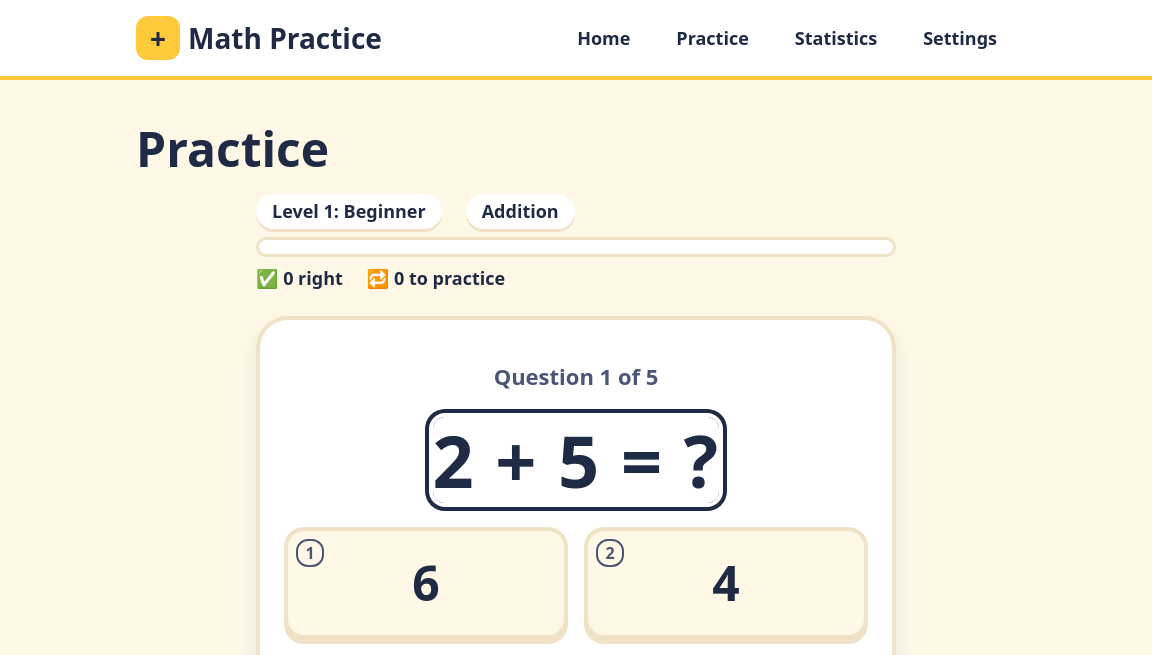
PracticePage › updates the totals and progress after every answer
Click the button "1 6". click: coordinates (426, 583)
box: x1=284 y1=527 x2=568 y2=639
(page scrolled)
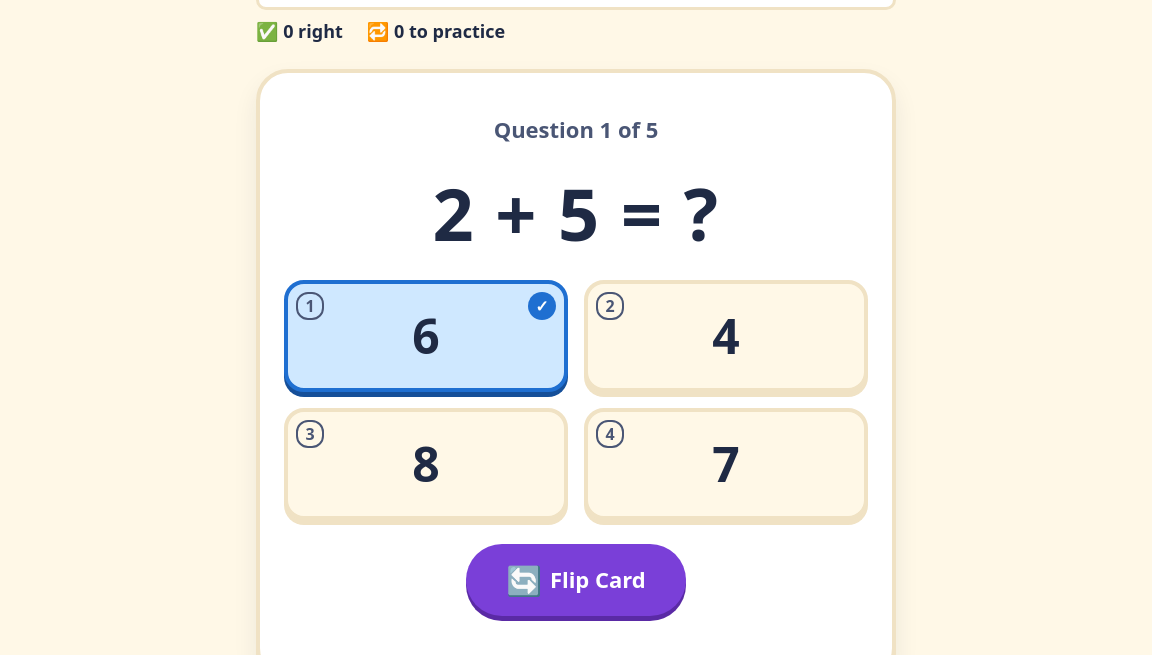
Click the button "🔄 Flip Card". click: coordinates (576, 580)
box: x1=466 y1=544 x2=686 y2=616
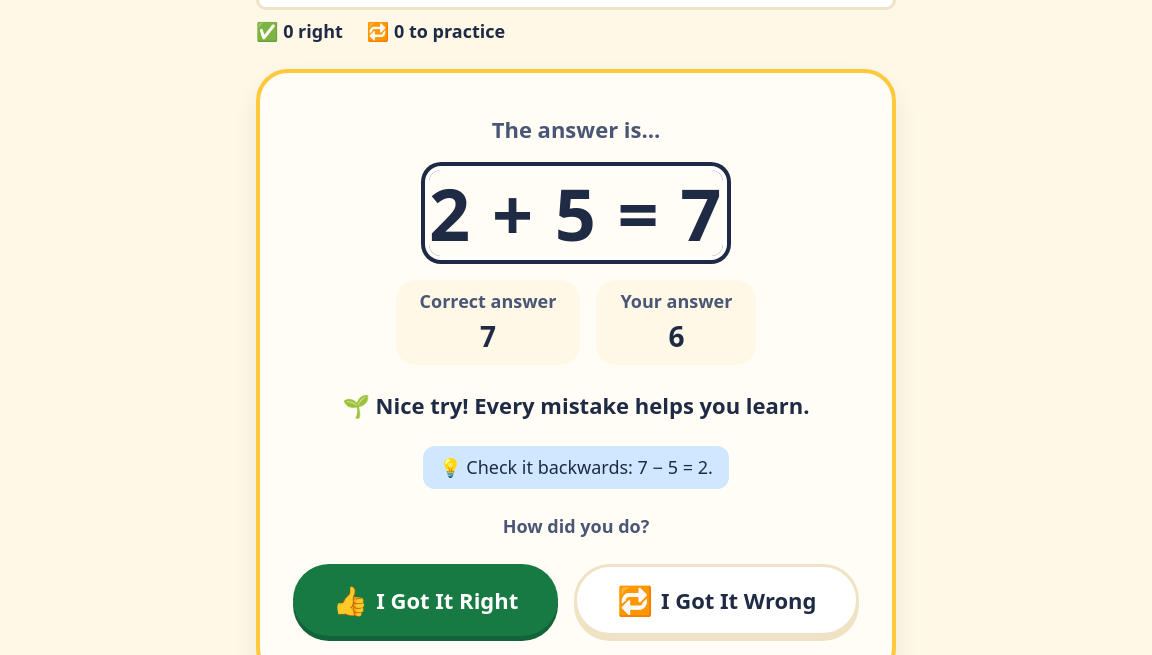
Click the button "👍 I Got It Right". click: coordinates (425, 600)
box: x1=292 y1=564 x2=558 y2=636
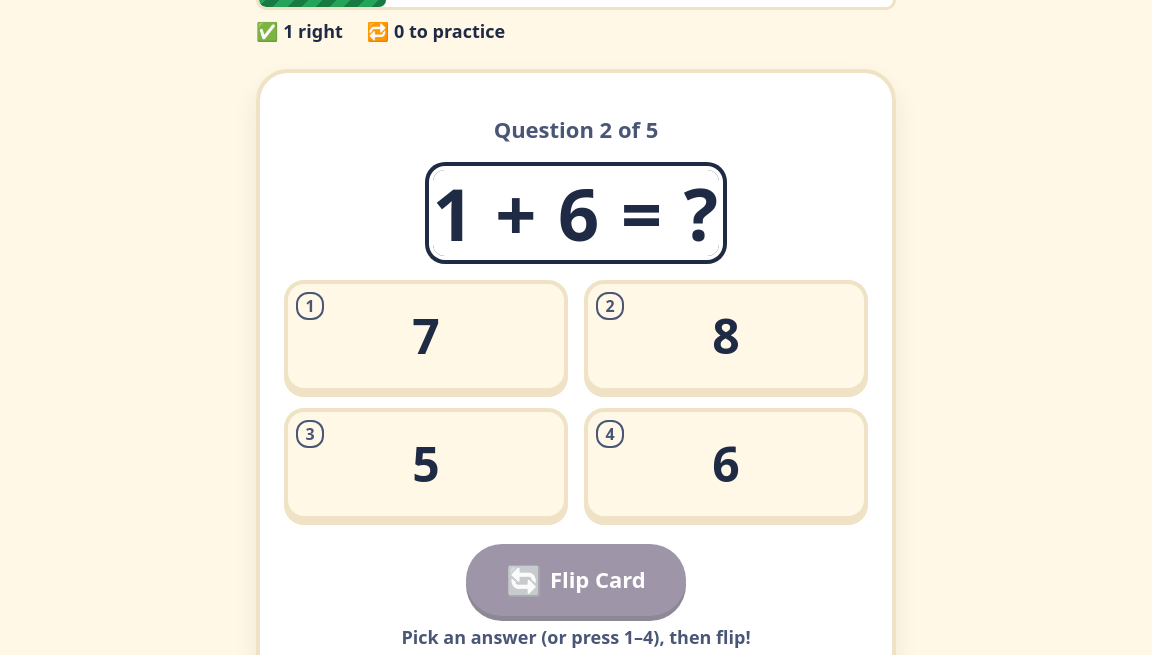
Result: the text "Question 2 of 5" is shown at x1=494 y1=113 x2=658 y2=146
Click the button "1 7". click: coordinates (426, 336)
box: x1=284 y1=280 x2=568 y2=392
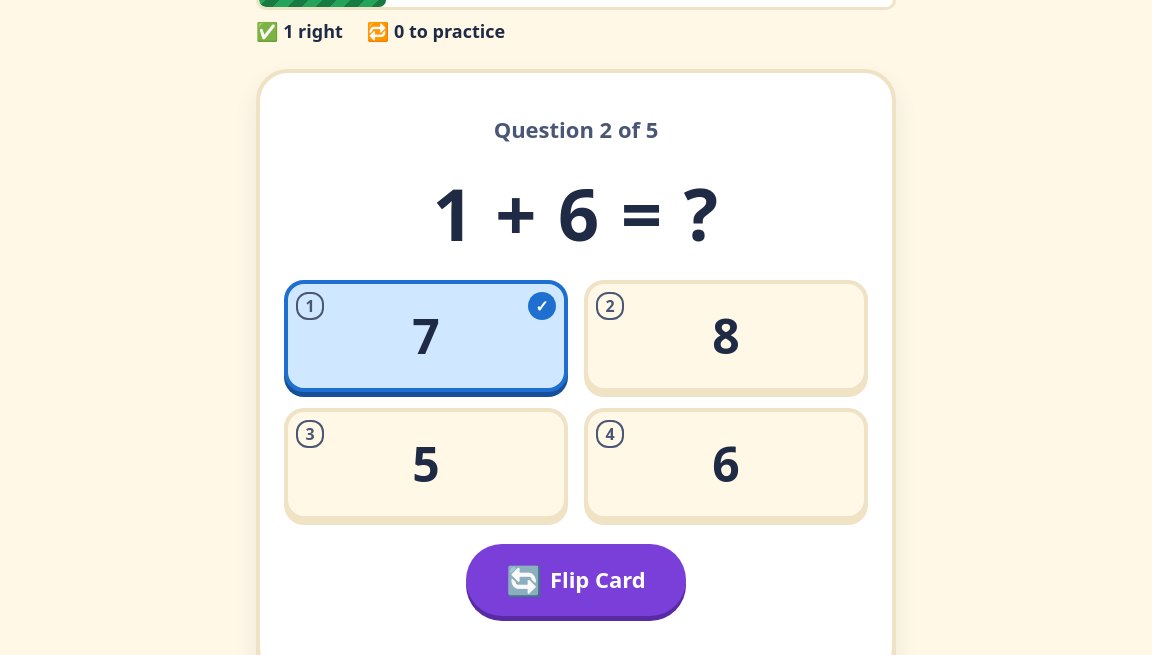
Click the button "🔄 Flip Card". click: coordinates (576, 580)
box: x1=466 y1=544 x2=686 y2=616
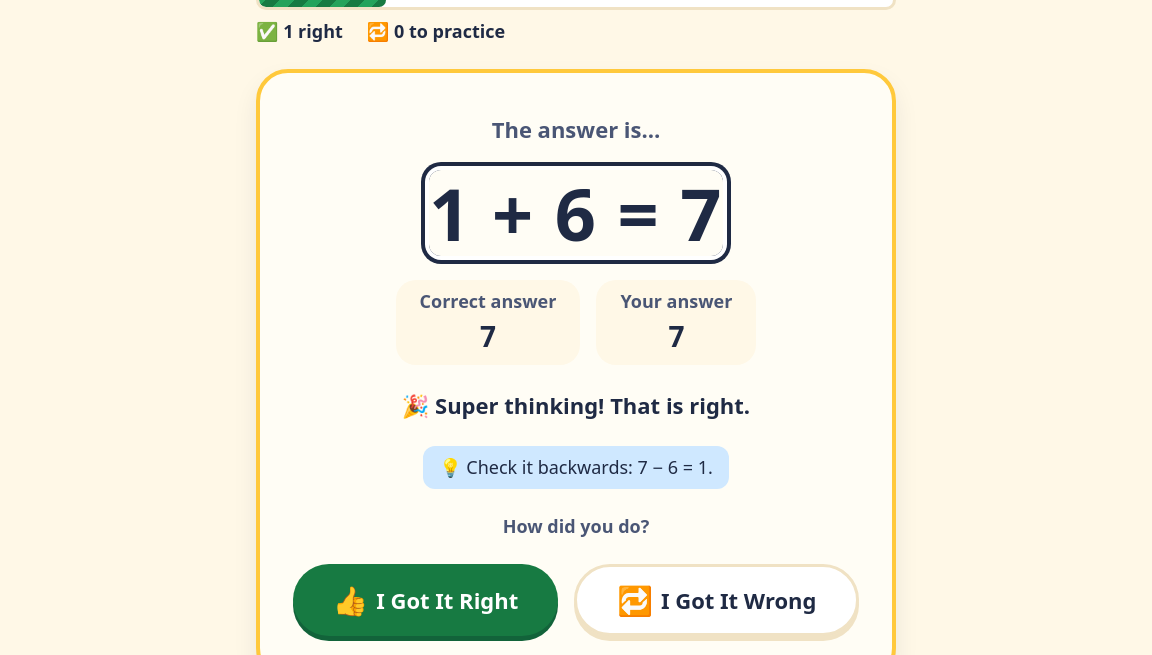
Click the button "🔁 I Got It Wrong". click: coordinates (717, 600)
box: x1=574 y1=564 x2=860 y2=636
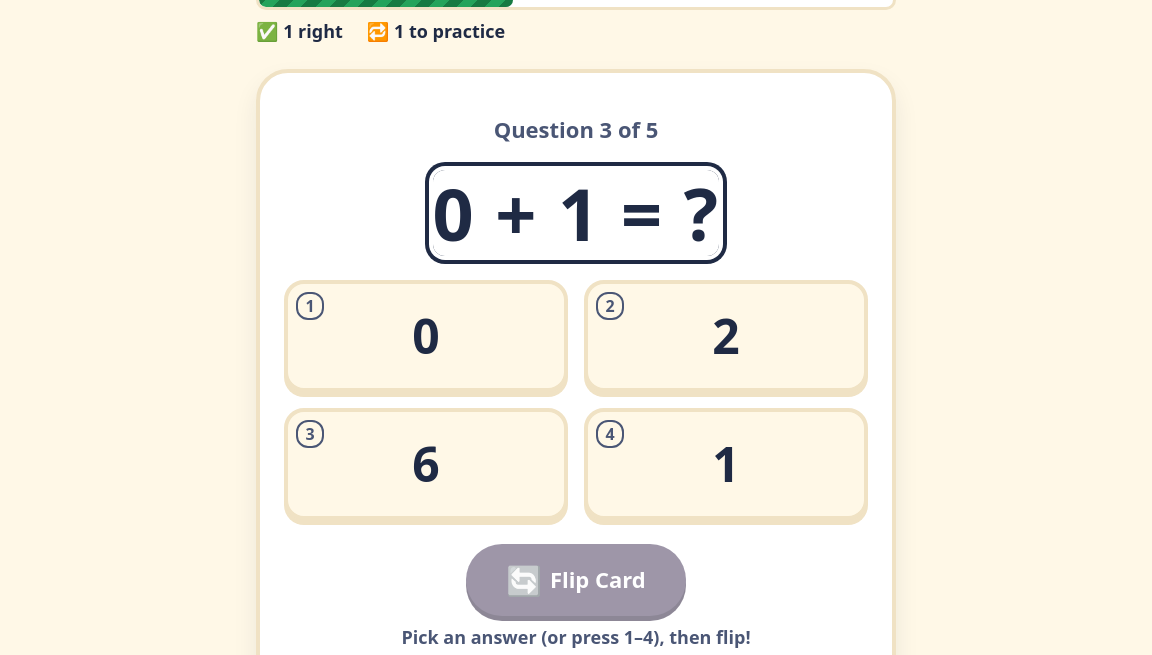
Result: the text "✅ 1 right" is shown at x1=256 y1=18 x2=343 y2=45
Result: the text "Question 3 of 5" is shown at x1=494 y1=113 x2=658 y2=146
Result: the text "🔁 1 to practice" is shown at x1=367 y1=18 x2=505 y2=45
